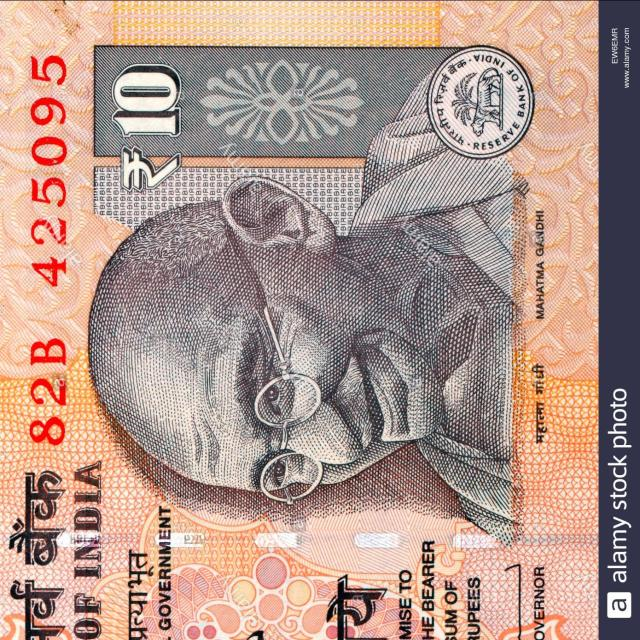10IndianRupees: (0, 0, 597, 640)
